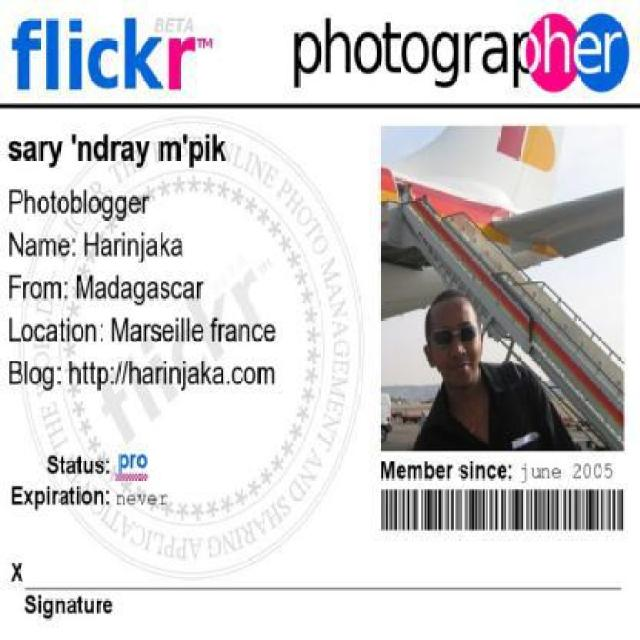Person: (408, 276, 547, 467)
